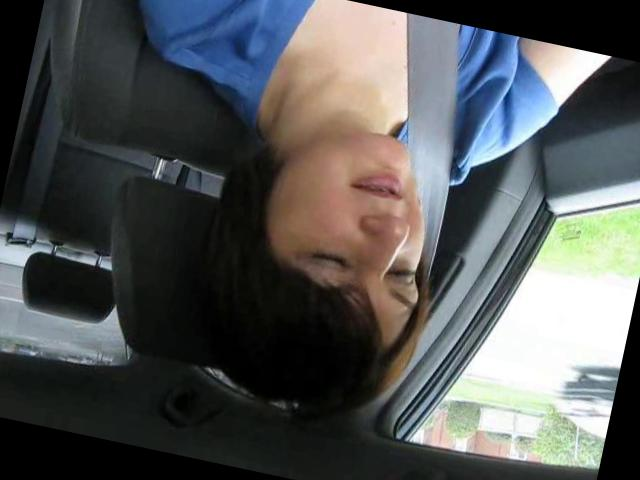eye_closed: (304, 238, 359, 280), (382, 259, 419, 291)
face: (258, 117, 452, 321)
